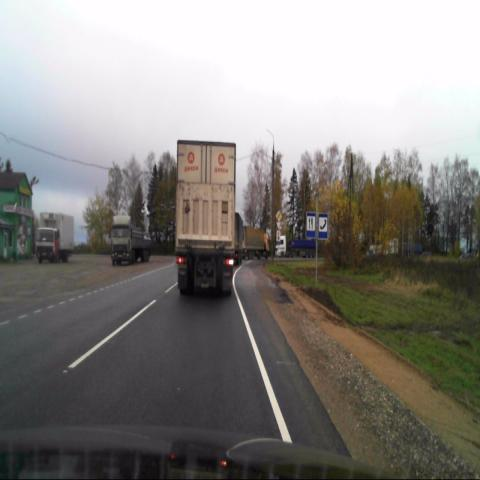7_6: (318, 214, 328, 240)
7_7: (306, 212, 315, 237)
